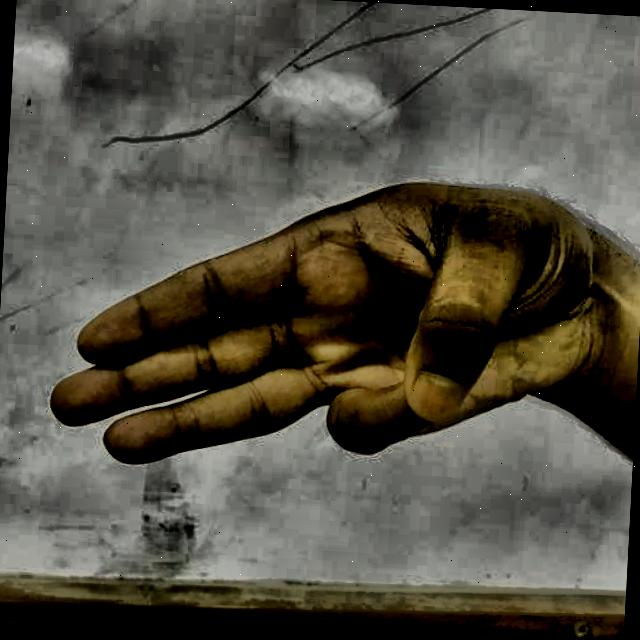Ma: (31, 150, 633, 520)
